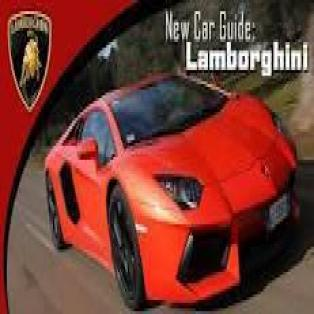Auto: (30, 34, 313, 311)
